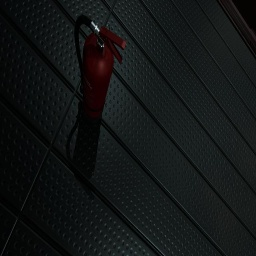FireExtinguisher ]: (74, 15, 126, 123)
